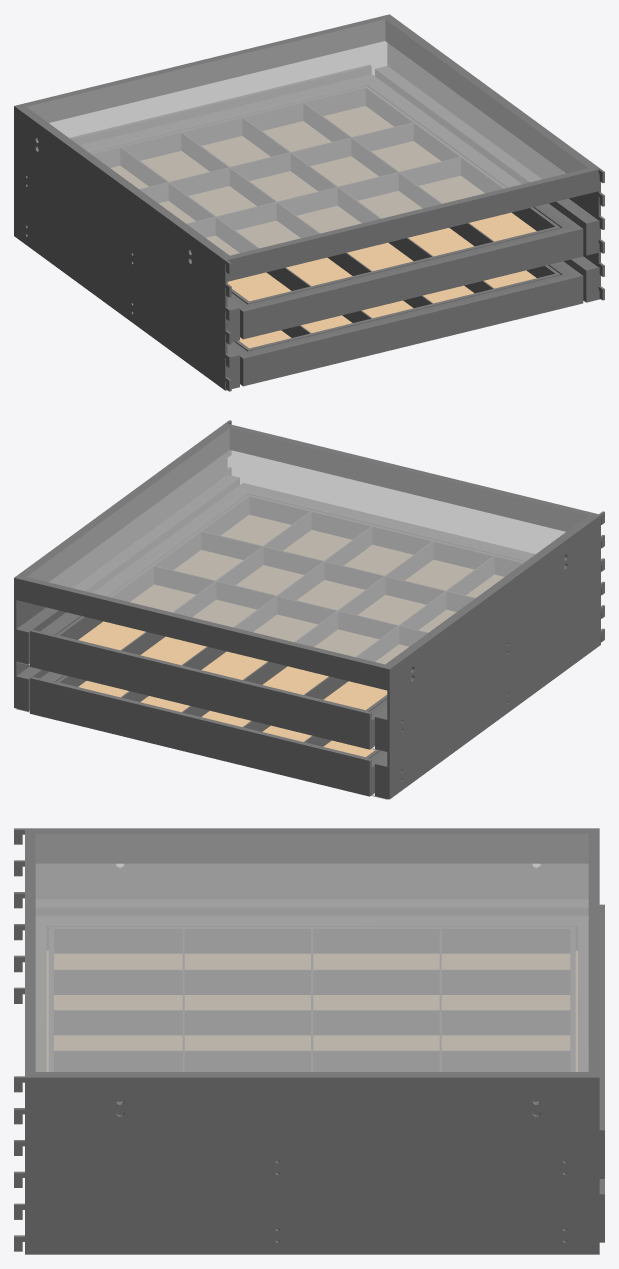
The picture shows the model from 3 angles, top to bottom: view 1: azimuth 30°, elevation 25°; view 2: azimuth 150°, elevation 25°; view 3: azimuth 270°, elevation 25°; orthographic projection. The views are drawn at different scales.
Parts seen in each view (by area): view 1: Geom3D (×3); view 2: Geom3D (×3); view 3: Geom3D (×3).
Part boxes in pixels (box(x1,y1,x2,y2)): Geom3D (×3): box(14, 14, 604, 391); Geom3D (×3): box(14, 420, 604, 799); Geom3D (×3): box(14, 828, 604, 1254).
Bounding box in the file's own units: 0.5439 × 0.181 × 0.545.
